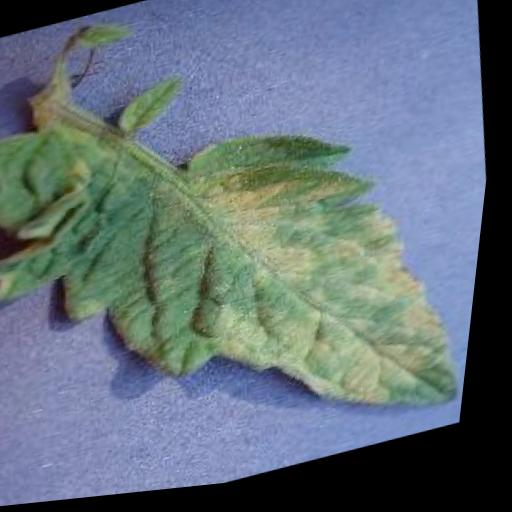Leaf Mold: (0, 30, 500, 512)
